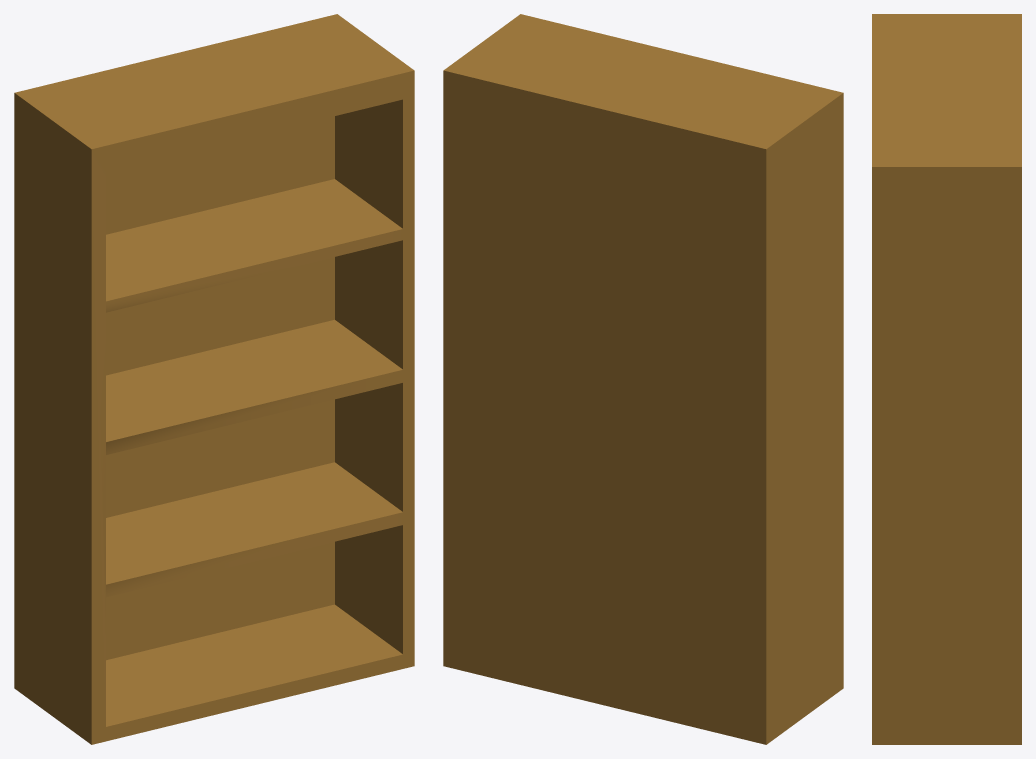
File: bookshelf_notexture.fbx
3 renders of one model, left to right at view 1: azimuth 30°, elevation 25°; view 2: azimuth 150°, elevation 25°; view 3: azimuth 270°, elevation 25°, orthographic. The views are drawn at different scales.
Parts seen in each view (by area): view 1: polySurface4; view 2: polySurface4; view 3: polySurface4.
Part boxes in pixels (x1,y1,x2,y2): polySurface4: (14,14,414,744); polySurface4: (443,14,843,744); polySurface4: (872,14,1021,744).
Bounding box in the file's own units: 5.56 × 9.8 × 2.3.
